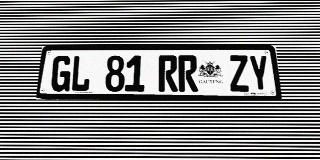1: (125, 55, 145, 92)
8: (105, 55, 125, 92)
G: (50, 56, 72, 92)
L: (70, 55, 92, 92)
R: (158, 55, 178, 92), (178, 55, 198, 92)
Y: (248, 55, 271, 92)
Z: (228, 55, 250, 92)
